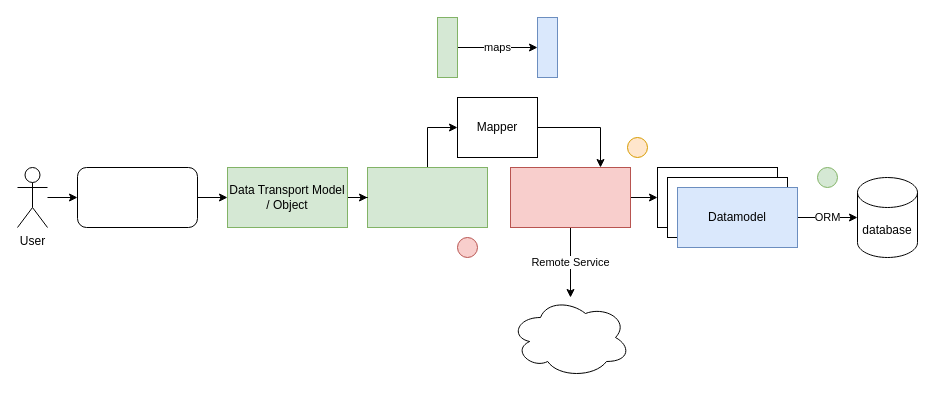
This 935x395 diagram has some shape labels left out. The shapes that lost their labels are listed below. From the top down, each one's centre as x and y in pixels, then its label:
[137,197]: Front-end application
[427,197]: REST API
[570,197]: DataAccessService
